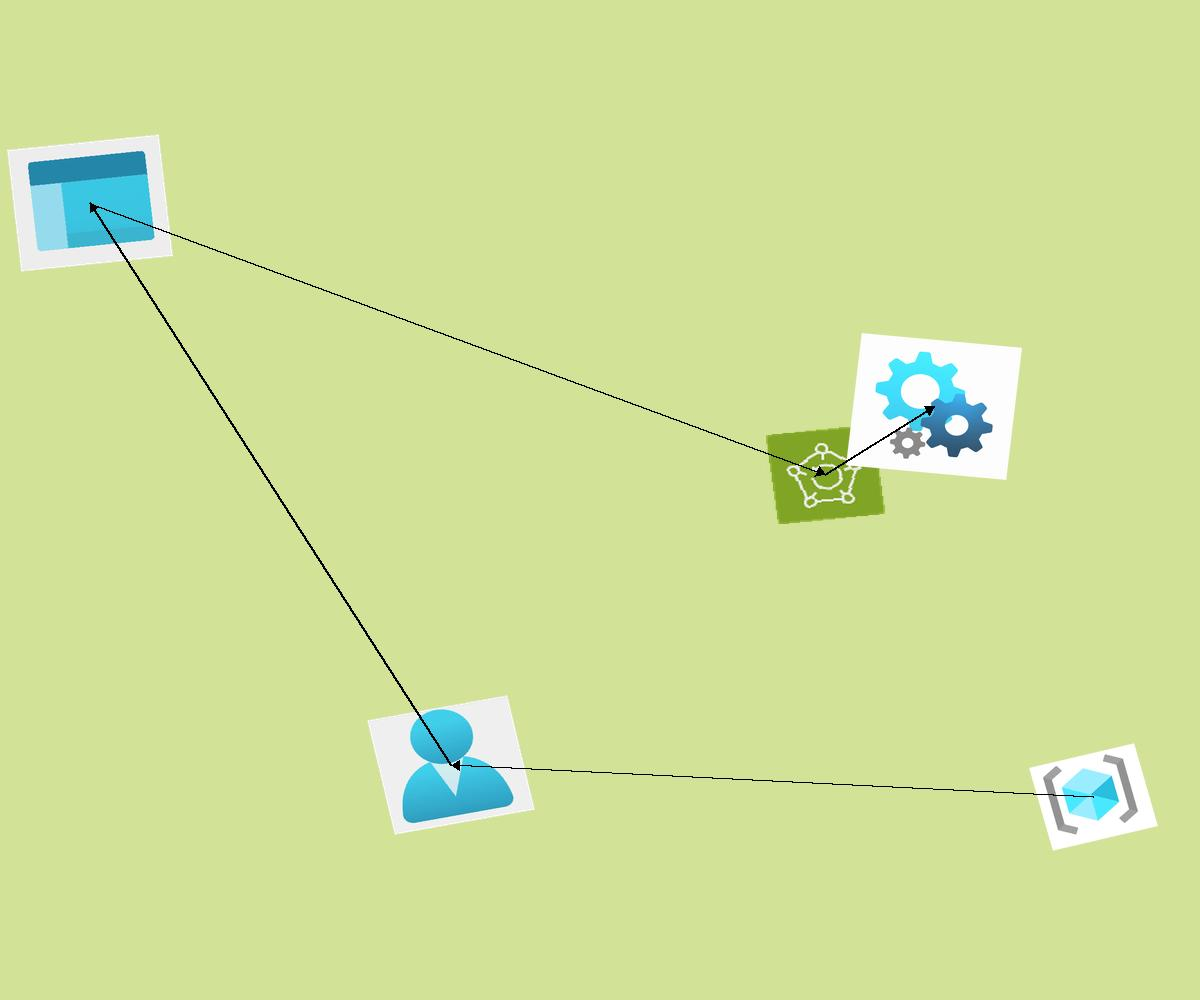AWS-Backup: (765, 424, 886, 525)
Azure_api: (846, 333, 1022, 480)
Azure_management-portal: (7, 134, 173, 272)
Azure_resource_group: (1029, 743, 1158, 851)
Azure_users: (367, 695, 535, 835)
